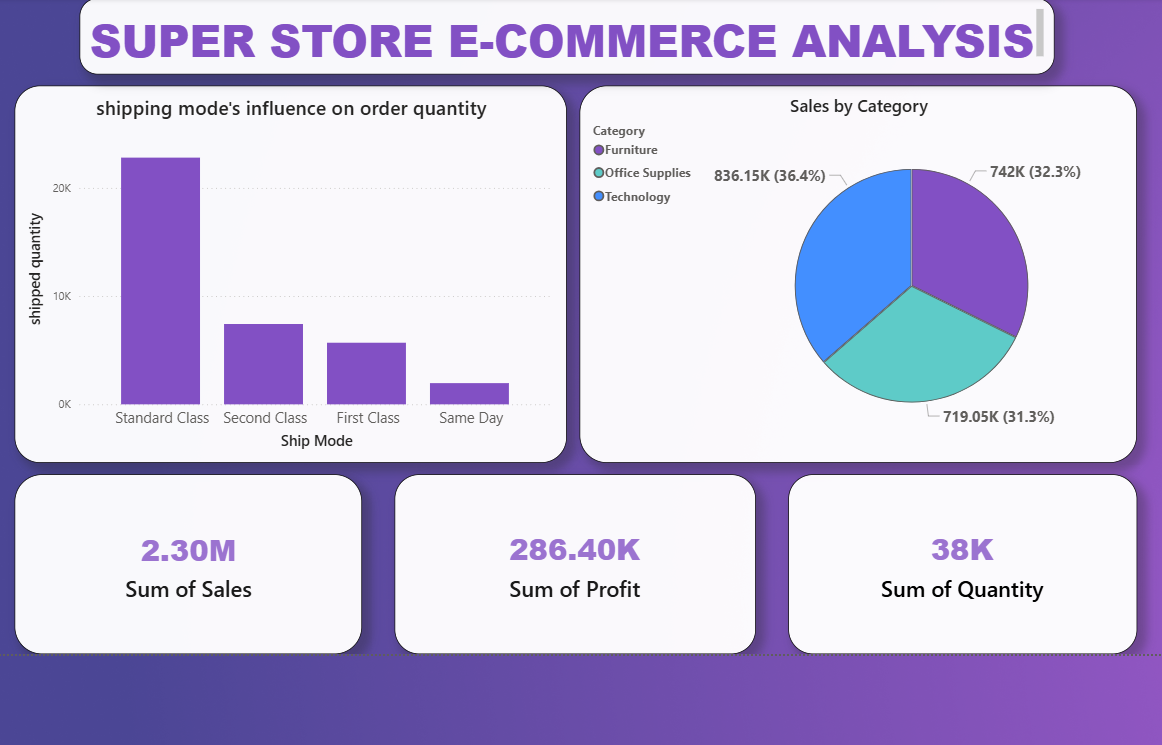

The dashboard page shown, as its layout file describes it:
{"tool":"powerbi","page":{"name":"Page 1","canvas":[1280,720],"ordinal":0},"visuals":[{"type":"columnChart","title":"shipping mode''s influence on order quantity","fields":{"Category":["Orders.Ship Mode"],"Y":["Sum(Orders.Quantity)"]},"box":[19.2,96.1,606.5,414.4],"z":0},{"type":"pieChart","title":" Sales by Category","fields":{"Series":["Orders.Category"],"Y":["Sum(Orders.Sales)"]},"box":[639.5,96.1,612,414.4],"z":1000},{"type":"card","fields":{"Values":["Sum(Orders.Sales)"]},"box":[19.2,522.8,381.5,197.6],"z":2000},{"type":"card","fields":{"Values":["Sum(Orders.Profit)"]},"box":[436.4,522.8,396.6,197.6],"z":3000},{"type":"card","fields":{"Values":["Sum(Orders.Quantity)"]},"box":[868.6,522.8,382.8,197.6],"z":4000},{"type":"textbox","box":[90.6,0,1070.3,83.7],"z":5000}]}

Visuals, with their boxes on the page's 1280x720 design canvas (x1, y1, x2, y2). These are canvas units, not pixel positions in the 1162x745 screenshot, which may show the page scaled, cropped or inside an application window:
"shipping mode''s influence on order quantity" columnChart: region(19, 96, 626, 510)
" Sales by Category" pieChart: region(640, 96, 1252, 510)
card - Sum(Orders.Sales): region(19, 523, 401, 720)
card - Sum(Orders.Profit): region(436, 523, 833, 720)
card - Sum(Orders.Quantity): region(869, 523, 1251, 720)
textbox: region(91, 0, 1161, 84)
